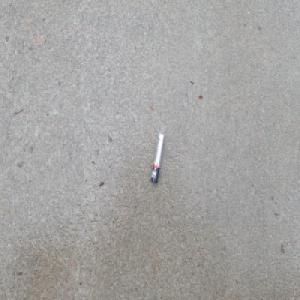Battery: (150, 131, 164, 184)
